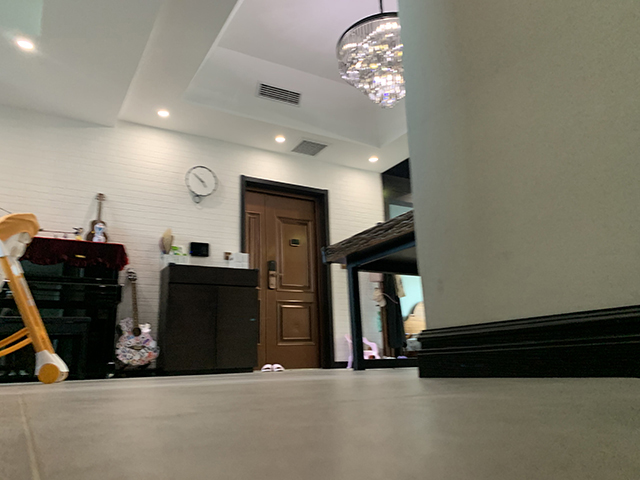cabinet: (154, 262, 261, 375)
slippers: (259, 363, 285, 373)
stool: (1, 314, 91, 382), (345, 333, 380, 370)
table: (320, 209, 422, 371)
